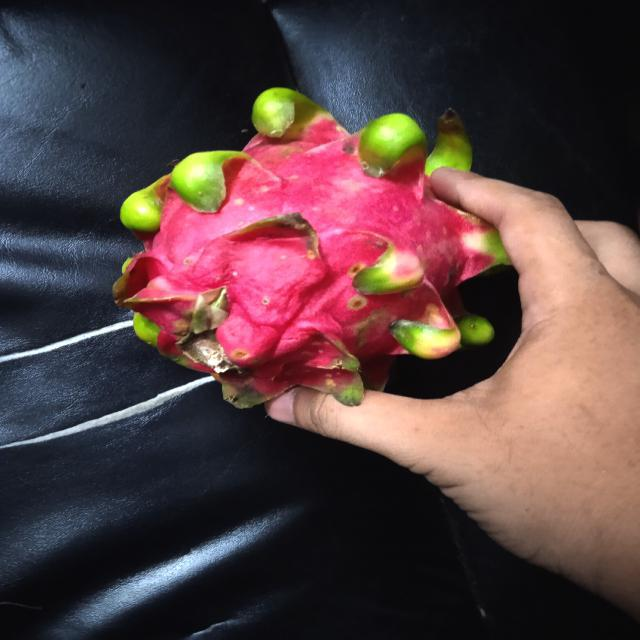do: (119, 83, 512, 414)
